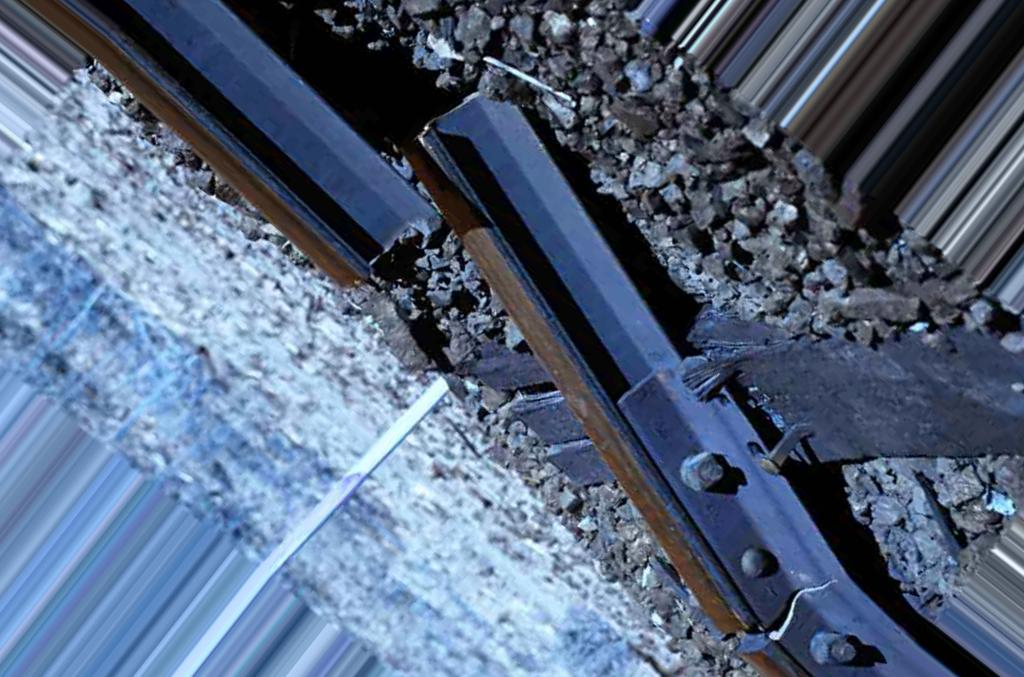tracks_fault: (307, 74, 891, 656)
